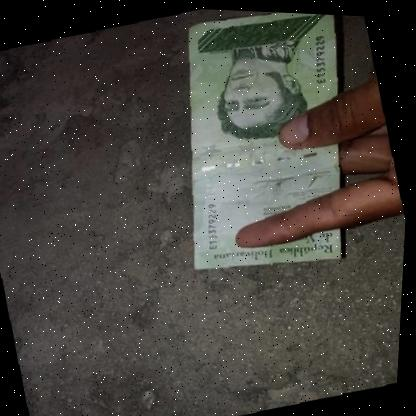fifty-front-vef: (141, 5, 388, 290)
